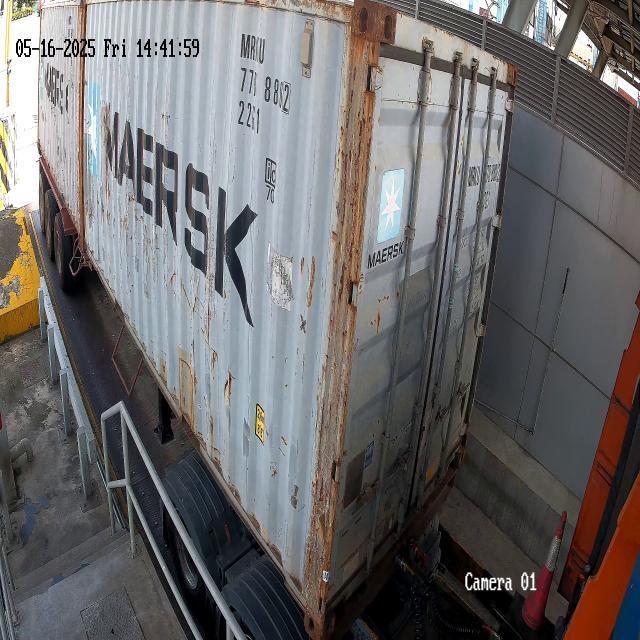ISO: (232, 91, 268, 147)
container_number: (238, 24, 296, 120)
